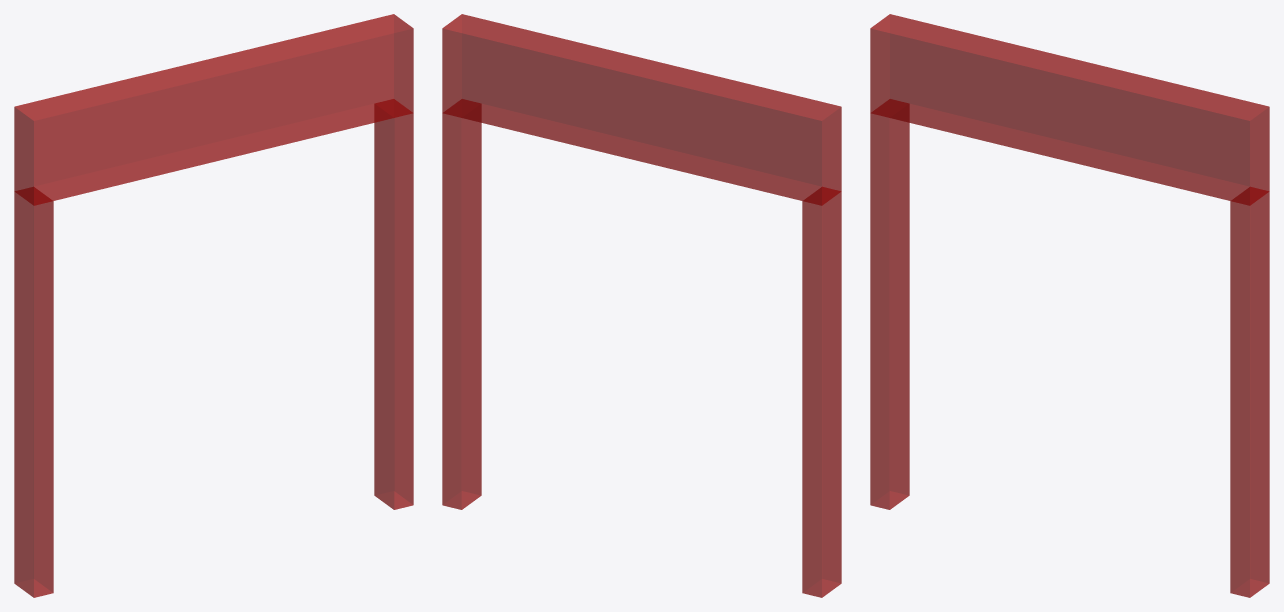
The model's file is SM_Bld_Base_Wall_Door_Double_Large_01_Collision.fbx.
3 views of the same model, side by side, from view 1: azimuth 30°, elevation 25°; view 2: azimuth 150°, elevation 25°; view 3: azimuth 330°, elevation 25° (orthographic).
Visible parts, largest first — view 1: SM_Bld_Base_Wall_Door_Double_Large_01_Collision; view 2: SM_Bld_Base_Wall_Door_Double_Large_01_Collision; view 3: SM_Bld_Base_Wall_Door_Double_Large_01_Collision.
Part boxes in pixels (x1,y1,x2,y2): SM_Bld_Base_Wall_Door_Double_Large_01_Collision: (14,14,413,597); SM_Bld_Base_Wall_Door_Double_Large_01_Collision: (442,14,841,597); SM_Bld_Base_Wall_Door_Double_Large_01_Collision: (870,14,1269,597).
Bounding box in the file's own units: 250 × 300 × 22.5.
